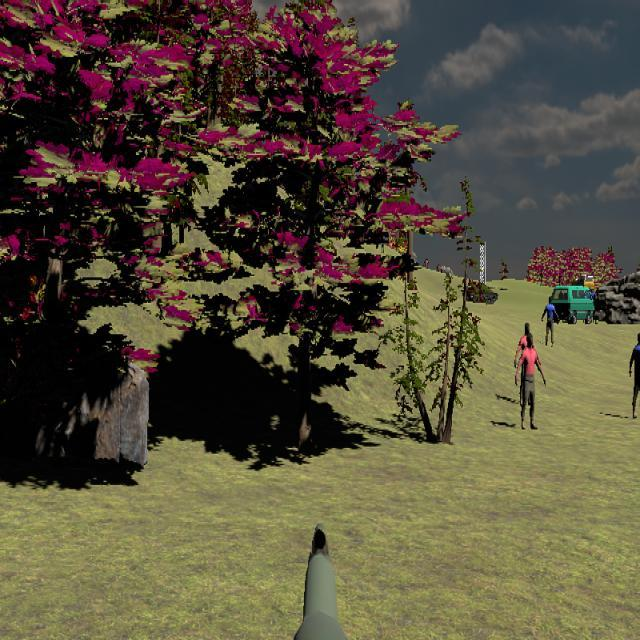Human: (515, 332, 546, 430), (629, 327, 640, 421), (542, 296, 559, 348)
Tank: (463, 280, 510, 305)
car: (549, 285, 594, 324)
